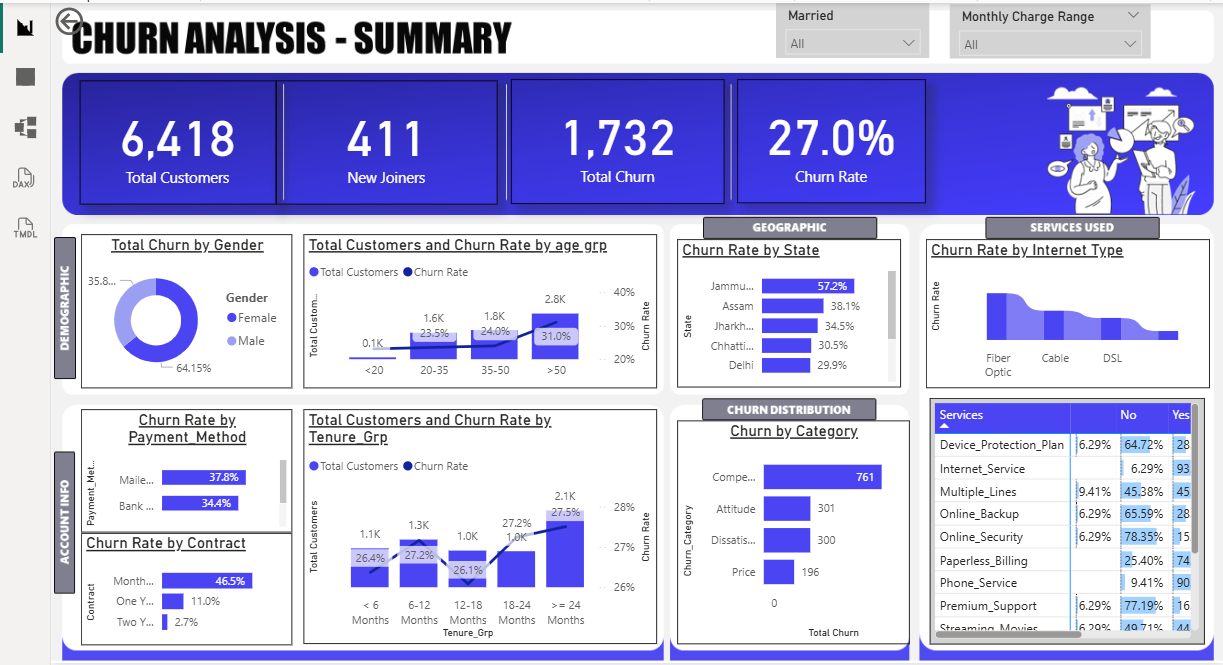

The page's visual inventory and layout, read from the dashboard file:
{"tool":"powerbi","page":{"name":"Page 1","canvas":[1280,720],"ordinal":0},"visuals":[{"type":"actionButton","box":[0,0,100,40],"z":0},{"type":"card","fields":{"Values":["tbl_measures.Churn Rate"]},"box":[748.5,83.2,205.9,135],"z":1000},{"type":"card","fields":{"Values":["tbl_measures.New Joiners"]},"box":[245.4,84.5,241.3,135],"z":2000},{"type":"card","fields":{"Values":["tbl_measures.Total Churn"]},"box":[501.7,83.2,233.1,136.3],"z":3000},{"type":"card","fields":{"Values":["tbl_measures.Total Customers"]},"box":[31.4,84.5,214.1,135],"z":4000},{"type":"donutChart","fields":{"Category":["customer_churn_dataset.Gender"],"Y":["tbl_measures.Total Churn"]},"box":[32.7,252.2,230.4,167.7],"z":5000},{"type":"lineStackedColumnComboChart","fields":{"Category":["mapping_age_grp.age grp"],"Y":["tbl_measures.Total Customers"],"Y2":["tbl_measures.Churn Rate"]},"box":[275.4,252.2,385.9,167.7],"z":6000},{"type":"clusteredBarChart","fields":{"Category":["customer_churn_dataset.Payment_Method"],"Y":["tbl_measures.Churn Rate"]},"box":[32.9,443.2,230.5,134.5],"z":7000},{"type":"clusteredBarChart","fields":{"Category":["customer_churn_dataset.Contract"],"Y":["tbl_measures.Churn Rate"]},"box":[32.9,577.7,230.5,122.1],"z":8000},{"type":"lineStackedColumnComboChart","fields":{"Category":["mapping_TenureGrp.Tenure_Grp"],"Y":["tbl_measures.Total Customers"],"Y2":["tbl_measures.Churn Rate"]},"box":[275.4,443.1,385.9,256.3],"z":9000},{"type":"clusteredBarChart","fields":{"Category":["customer_churn_dataset.State"],"Y":["tbl_measures.Churn Rate"]},"box":[683.4,258,244.3,161.9],"z":10000},{"type":"clusteredBarChart","title":"Churn by Category","fields":{"Category":["customer_churn_dataset.Churn_Category"],"Y":["tbl_measures.Total Churn"]},"box":[683.1,455.4,253.6,244.1],"z":11000},{"type":"ribbonChart","title":"Churn Rate by Internet Type","fields":{"Category":["customer_churn_dataset.Internet_Type"],"Y":["tbl_measures.Churn Rate"]},"box":[954.4,257.7,309.5,162.3],"z":12000},{"type":"pivotTable","fields":{"Rows":["churn_service.Services"],"Columns":["churn_service.Status"],"Values":["Sum(churn_service.Churn Status)"]},"box":[958.5,430.8,300,268.6],"z":13000},{"type":"slicer","fields":{"Values":["churn_service.Monthly Charge Status"]},"box":[979.8,1.4,219.6,59],"z":14000},{"type":"slicer","fields":{"Values":["churn_service.Married"]},"box":[790.4,0,167.4,60.4],"z":15000}]}

Visuals, with their boxes in screenshot pixels (x1, y1, x2, y2):
actionButton: [51,13,142,49]
card - tbl_measures.Churn Rate: [733,89,921,212]
card - tbl_measures.New Joiners: [275,90,495,213]
card - tbl_measures.Total Churn: [508,89,721,213]
card - tbl_measures.Total Customers: [80,90,275,213]
donutChart - customer_churn_dataset.Gender x tbl_measures.Total Churn: [81,243,291,396]
lineStackedColumnComboChart - mapping_age_grp.age grp x tbl_measures.Total Customers: [302,243,654,396]
clusteredBarChart - customer_churn_dataset.Payment_Method x tbl_measures.Churn Rate: [81,417,291,539]
clusteredBarChart - customer_churn_dataset.Contract x tbl_measures.Churn Rate: [81,539,291,651]
lineStackedColumnComboChart - mapping_TenureGrp.Tenure_Grp x tbl_measures.Total Customers: [302,417,654,650]
clusteredBarChart - customer_churn_dataset.State x tbl_measures.Churn Rate: [674,248,897,396]
"Churn by Category" clusteredBarChart: [674,428,905,650]
"Churn Rate by Internet Type" ribbonChart: [921,248,1203,396]
pivotTable - churn_service.Services x churn_service.Status: [925,406,1198,650]
slicer - churn_service.Monthly Charge Status: [944,14,1144,68]
slicer - churn_service.Married: [772,13,924,68]
